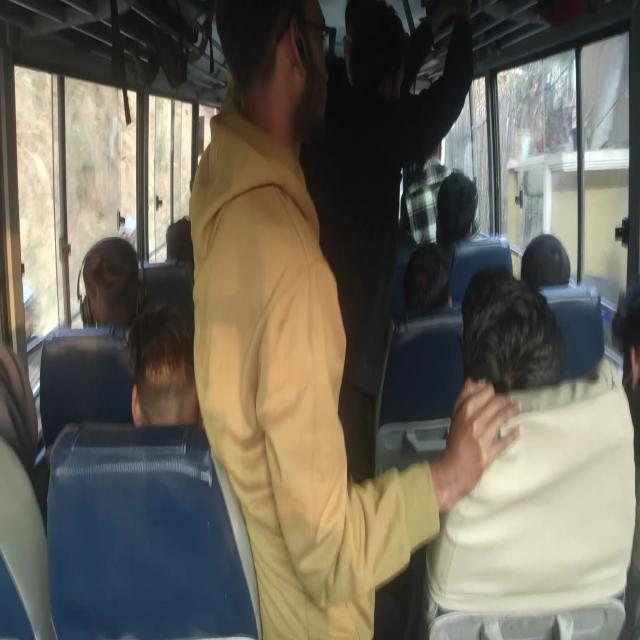person: (0, 328, 53, 634), (213, 0, 315, 108), (382, 312, 469, 436), (127, 301, 201, 430), (354, 26, 418, 144), (534, 287, 605, 385), (166, 212, 254, 277), (335, 8, 392, 98), (448, 235, 514, 304), (75, 249, 141, 305), (520, 233, 571, 290), (440, 178, 479, 235)
